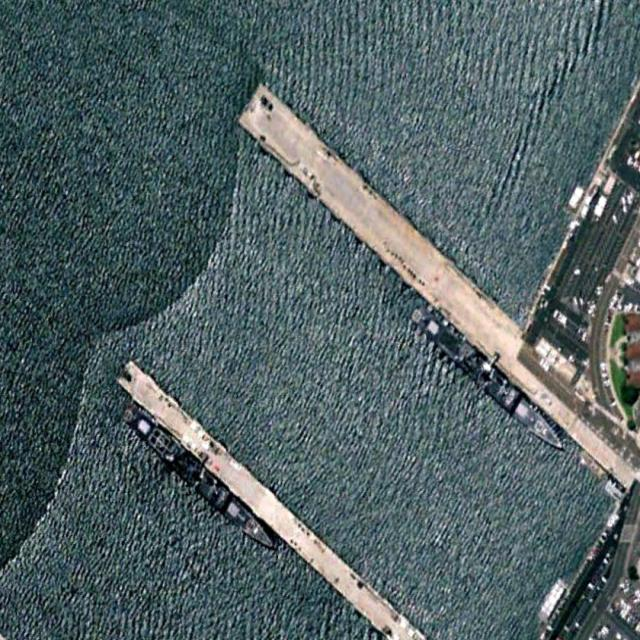Cruiser: (114, 396, 282, 557), (406, 296, 569, 459)
